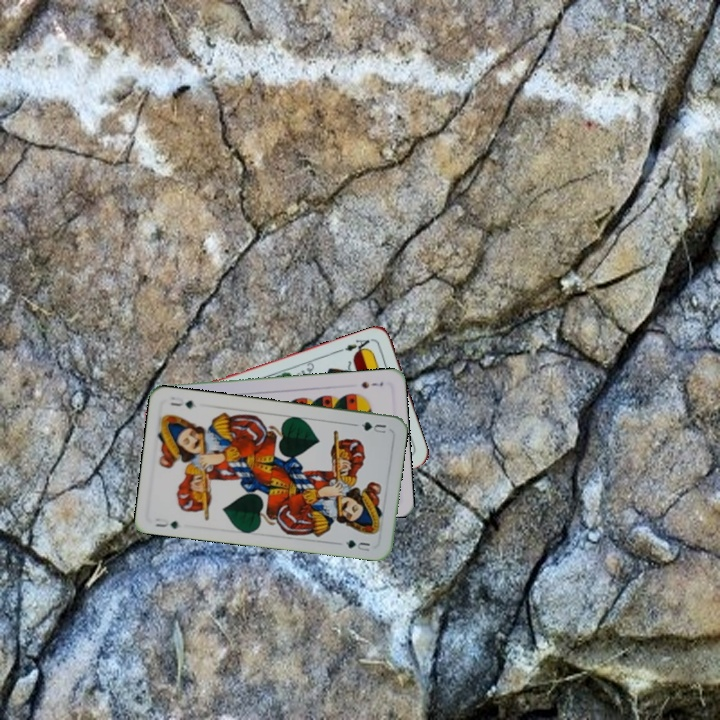EA: (336, 334, 375, 357)
GU: (351, 418, 388, 436), (150, 514, 181, 532)
S7: (357, 377, 386, 391)
